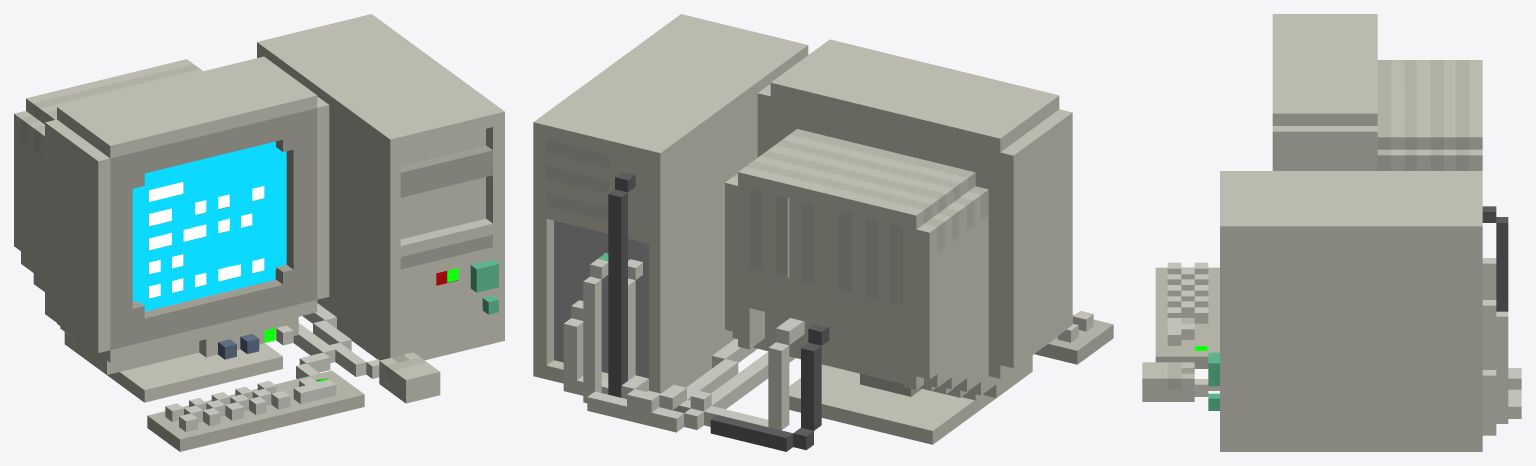
File: computer-transformed.glb
3 views of the same model, side by side, from view 1: azimuth 30°, elevation 25°; view 2: azimuth 150°, elevation 25°; view 3: azimuth 270°, elevation 25° (orthographic). The views are drawn at different scales.
Visible parts, largest first — view 1: Object_5, Object_15, Object_16; view 2: Object_5, Object_12; view 3: Object_5.
Part boxes in pixels (x1,y1,x2,y2): Object_5: (14,14,504,451); Object_15: (132,141,286,311); Object_16: (149,182,264,298); Object_5: (533,14,1113,451); Object_12: (554,220,648,378); Object_5: (1142,14,1521,451).
Size of the model in its own units: 33 by 22 by 28.99.
